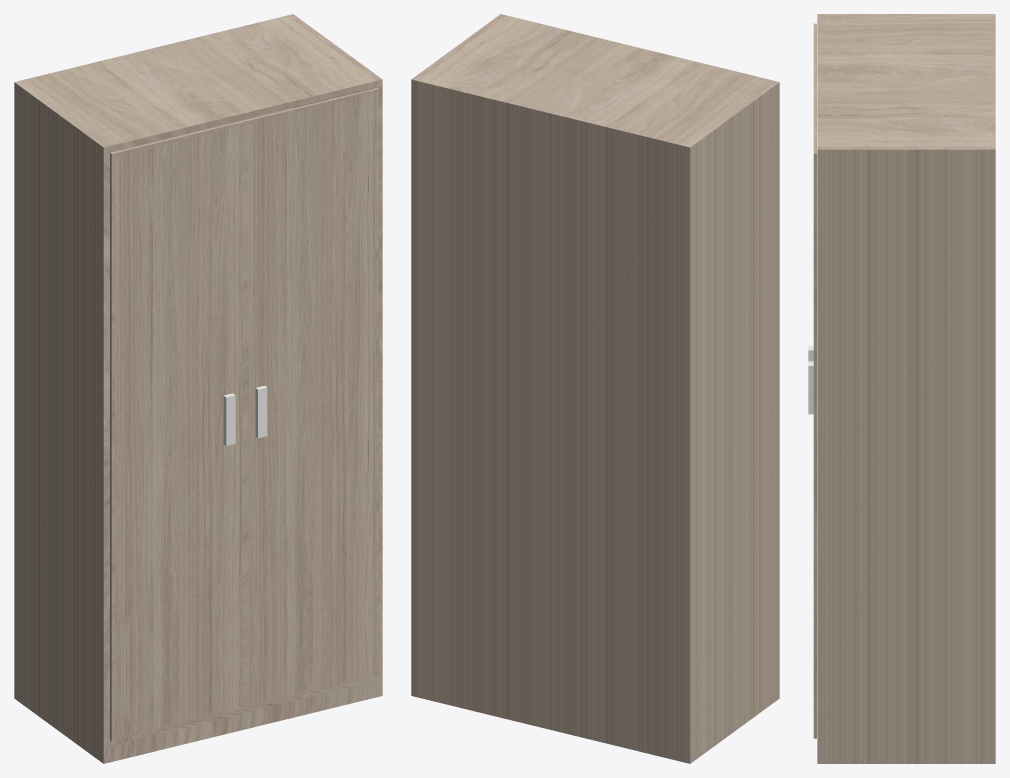
3 renders of one model, left to right at view 1: azimuth 30°, elevation 25°; view 2: azimuth 150°, elevation 25°; view 3: azimuth 270°, elevation 25°, orthographic.
Parts seen in each view (by area): view 1: Box087, Box088, Box091, Box092, Box090; view 2: Box087; view 3: Box087, Box091.
Boxes of the visible parts, x1=… form: Box087: x1=14, y1=14, x2=382, y2=763; Box088: x1=110, y1=120, x2=245, y2=741; Box091: x1=244, y1=87, x2=378, y2=708; Box092: x1=255, y1=385, x2=267, y2=438; Box090: x1=223, y1=393, x2=235, y2=445; Box087: x1=411, y1=14, x2=779, y2=763; Box087: x1=817, y1=14, x2=995, y2=763; Box091: x1=813, y1=88, x2=816, y2=738.
Bounding box in the file's own units: 900 × 1900 × 525.
2 materials, 1 textured.
